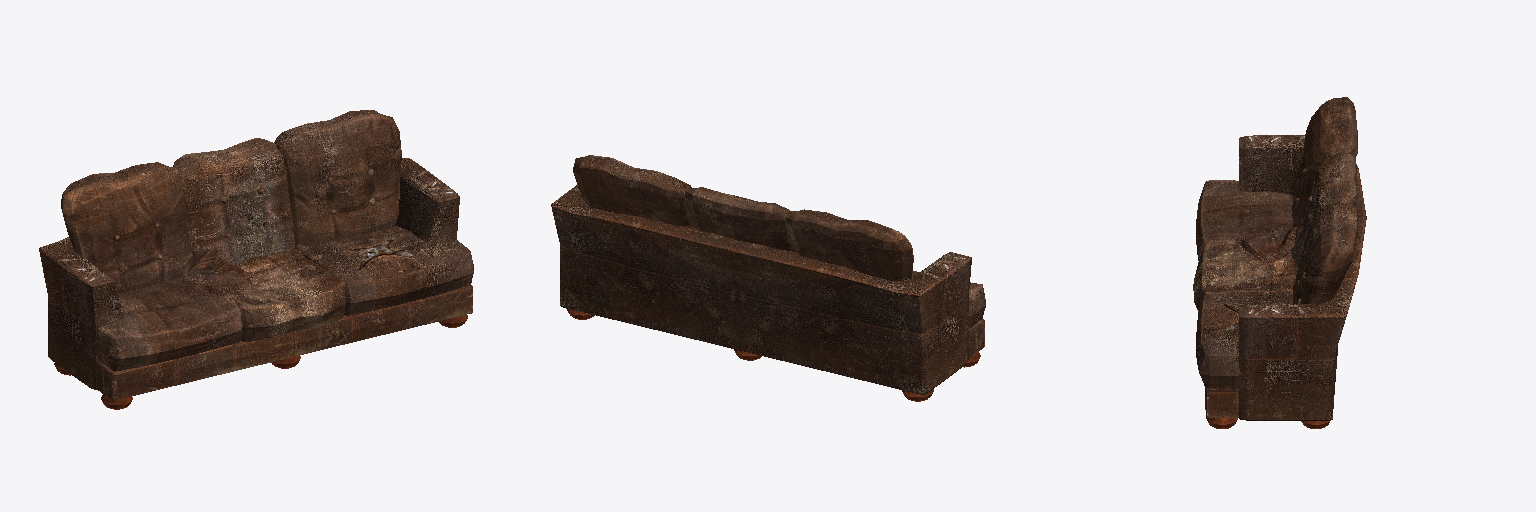
3 renders of one model, left to right at view 1: azimuth 30°, elevation 25°; view 2: azimuth 150°, elevation 25°; view 3: azimuth 270°, elevation 25°, orthographic.
Visible parts, largest first — view 1: LeatherSofa; view 2: LeatherSofa; view 3: LeatherSofa.
Boxes of the visible parts, <box> form: LeatherSofa: <box>39,110,473,409</box>; LeatherSofa: <box>551,155,985,401</box>; LeatherSofa: <box>1193,97,1366,428</box>.
Bounding box in the file's own units: 5.38 × 2.44 × 2.17.
Materials: 1 (1 with a texture image).